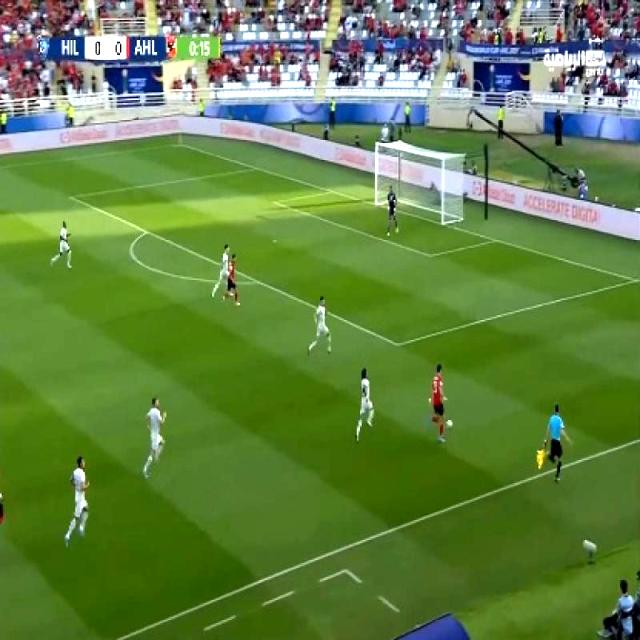bigarea_bottom_inner: (386, 328, 408, 358)
bigarea_bottom_outter: (625, 267, 640, 290)
bigarea_top_inner: (65, 186, 80, 204)
bigarea_top_outter: (248, 160, 262, 174)
bottom_arc_area_intersection: (249, 271, 263, 289)
corner: (171, 136, 186, 150)
smallarea_bottom_inner: (422, 245, 436, 265)
smallarea_bottom_outter: (485, 229, 503, 249)
smallarea_top_inner: (266, 192, 284, 210)
smallarea_top_outter: (322, 182, 338, 198)
top_arc_area_intersection: (136, 222, 154, 240)
